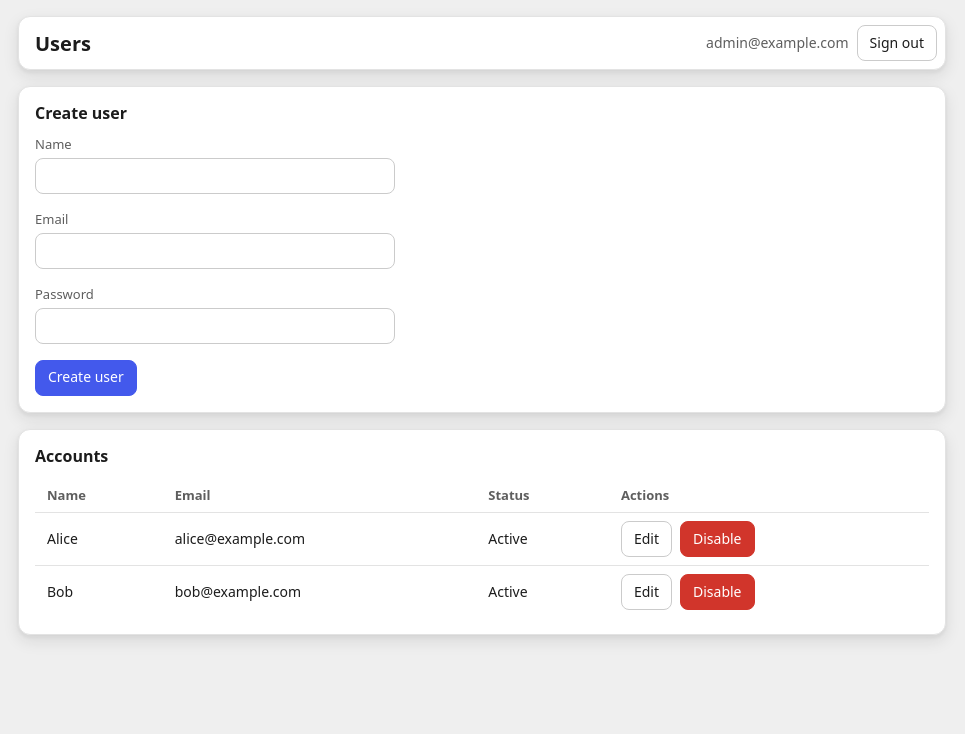
Test case: /admin/users — учётные записи (ADM-02…ADM-07) › ADM-07: повтор почты при правке — ошибка, форма остаётся открытой
Click the button "Edit" in the row of "bob@example.com" at (646, 592), box [621,574,672,610]
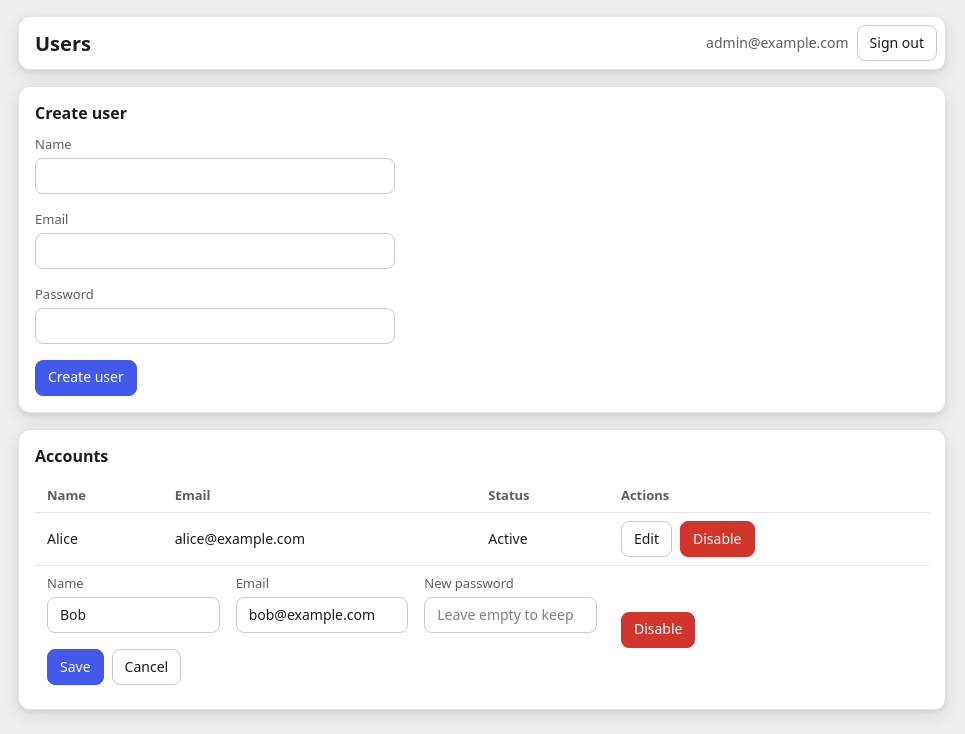
Replace the text in the field labelled "Email" below "New password" with "alice@example.com" at (322, 615), box [236,597,408,633]
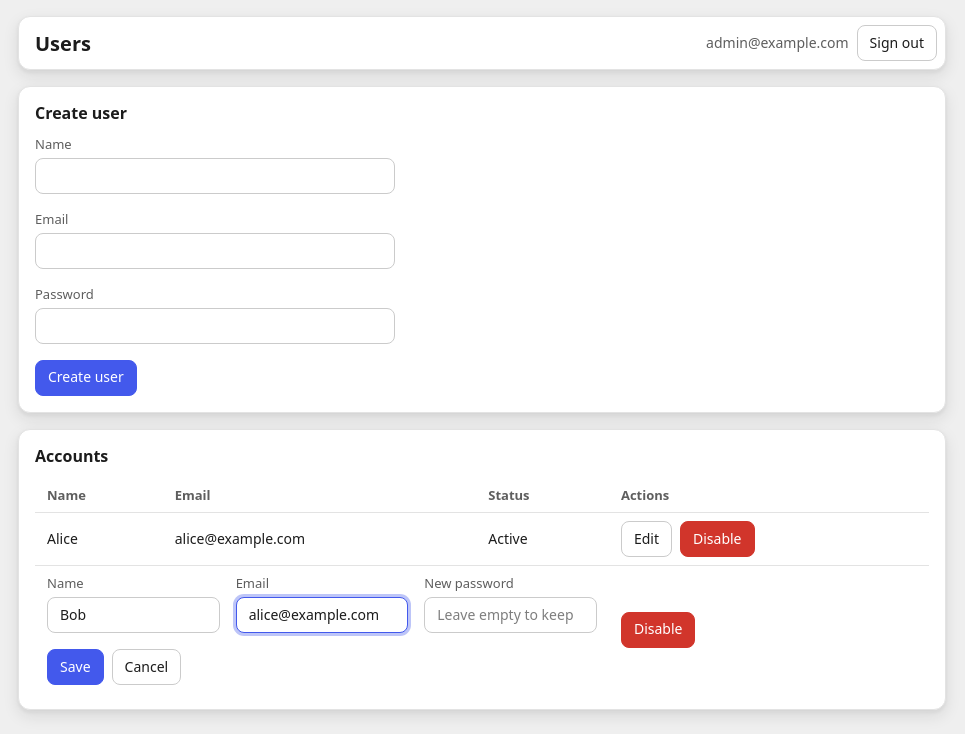
Click the button "Save" at (75, 667), box [47,649,104,685]
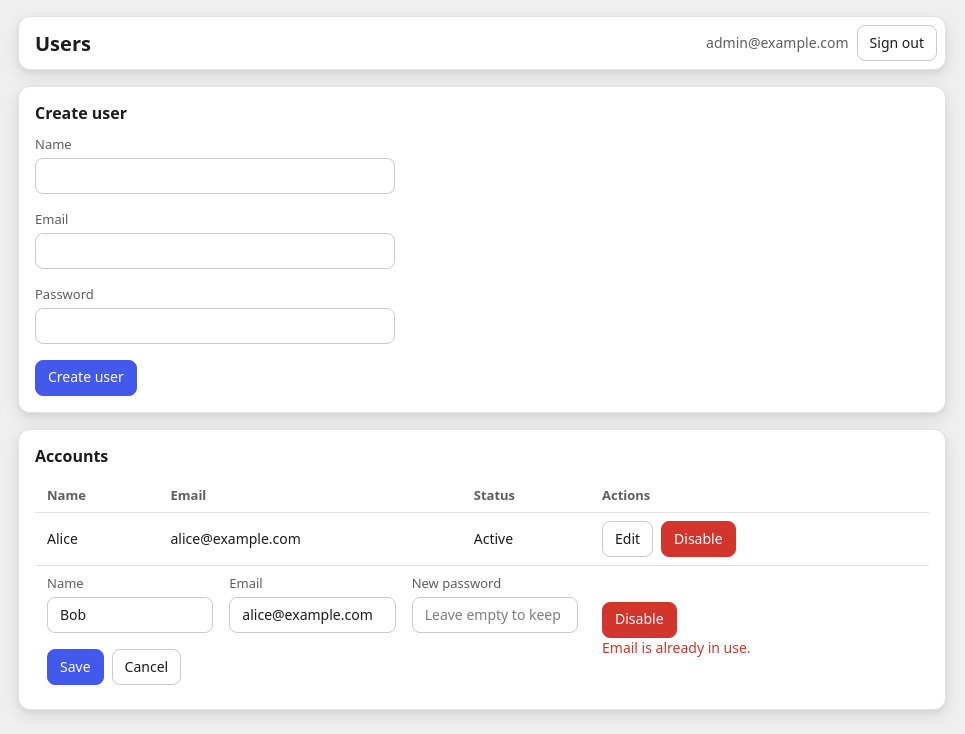
Check: the message reads "Email is already in use.", box [602,638,751,657]
